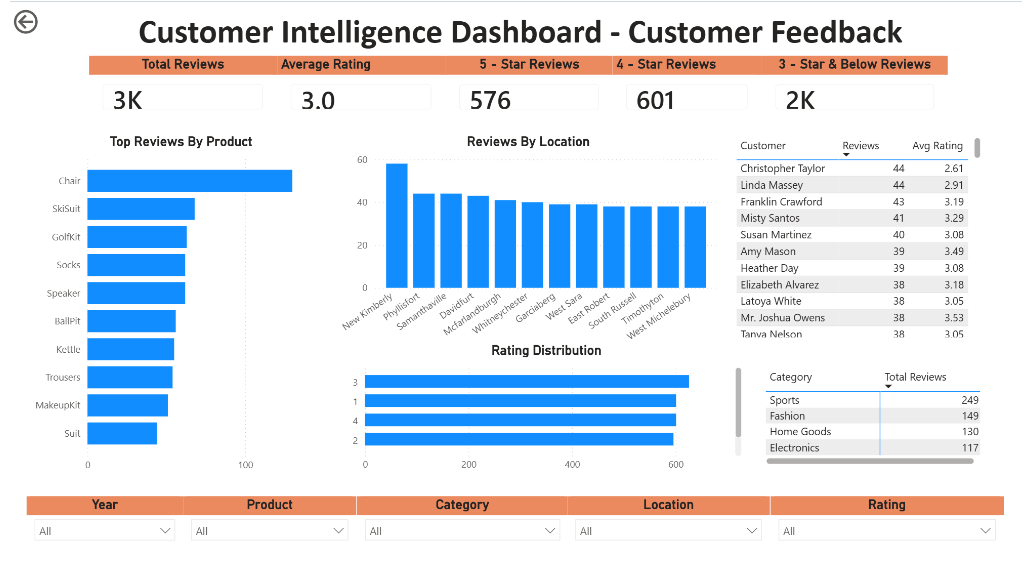

This screenshot's page, from the dashboard's own definition file:
{"tool":"powerbi","page":{"name":"👥 Customer Feedback","canvas":[1280,720],"ordinal":1},"visuals":[{"type":"textbox","box":[10.6,0,1269.4,96.4],"z":0},{"type":"cardVisual","title":"Total Reviews","fields":{"Data":["MeasuresTable.TotalReviews"]},"box":[100.4,63.4,237.8,85.9],"z":1000},{"type":"cardVisual","title":"3 - Star & Below Reviews","fields":{"Data":["MeasuresTable.3-Star&Below"]},"box":[951.1,63.4,235.1,85.9],"z":2000},{"type":"cardVisual","title":"5 - Star Reviews","fields":{"Data":["MeasuresTable.5-StarReviews"]},"box":[550.8,63.4,211.4,85.9],"z":3000},{"type":"cardVisual","title":"4 - Star Reviews","fields":{"Data":["MeasuresTable.4-StarReviews"]},"box":[762.2,63.4,188.9,85.9],"z":4000},{"type":"clusteredColumnChart","title":"Reviews By Location","fields":{"Category":["DimCustomer.Location"],"Y":["MeasuresTable.TotalReviews"]},"box":[412.1,161.2,487.4,277.4],"z":5000},{"type":"clusteredBarChart","title":"Top Reviews By Product","fields":{"Category":["DimProduct.ProductName"],"Y":["MeasuresTable.TotalReviews"]},"box":[21.1,161.2,391,437.2],"z":6000},{"type":"tableEx","title":"Revenue By Payment Method","fields":{"Values":["DimCustomer.CustomerName","MeasuresTable.CustomerReviewCount","MeasuresTable.AverageRating"]},"box":[912.8,161.2,319.7,262.9],"z":7000},{"type":"slicer","title":"Year","fields":{"Values":["DimDate.YearNumber"]},"box":[21.1,619.5,198.1,91.1],"z":8000},{"type":"slicer","title":"Product","fields":{"Values":["DimProduct.ProductName"]},"box":[219.3,619.5,219.3,91.1],"z":9000},{"type":"slicer","title":"Category","fields":{"Values":["DimProduct.Category"]},"box":[438.6,619.5,266.8,91.1],"z":10000},{"type":"slicer","title":"Location","fields":{"Values":["DimCustomer.Location"]},"box":[705.4,619.5,256.3,91.1],"z":11000},{"type":"slicer","title":"Rating","fields":{"Values":["FactReviews.Rating"]},"box":[961.7,619.5,294.6,91.1],"z":12000},{"type":"actionButton","box":[0,0,100,40],"z":13000},{"type":"cardVisual","title":"Average Rating","fields":{"Data":["MeasuresTable.AverageRating"]},"box":[338.2,63.4,212.7,85.9],"z":14000},{"type":"pivotTable","title":"Product","fields":{"Rows":["DimProduct.Category"],"Values":["MeasuresTable.TotalReviews"]},"box":[951.1,454.4,281.4,130.8],"z":15000},{"type":"barChart","title":"Rating Distribution","fields":{"Category":["FactReviews.Rating"],"Y":["MeasuresTable.TotalReviews"]},"box":[426.7,425.3,503.3,173],"z":16000}]}

Visuals, with their boxes in screenshot pixels (x1, y1, x2, y2), scaled from the page's 1280x720 canvas onto the 1032x578 screenshot:
textbox: bbox=(9, 0, 1031, 77)
"Total Reviews" cardVisual: bbox=(81, 51, 273, 120)
"3 - Star & Below Reviews" cardVisual: bbox=(767, 51, 956, 120)
"5 - Star Reviews" cardVisual: bbox=(444, 51, 615, 120)
"4 - Star Reviews" cardVisual: bbox=(615, 51, 767, 120)
"Reviews By Location" clusteredColumnChart: bbox=(332, 129, 725, 352)
"Top Reviews By Product" clusteredBarChart: bbox=(17, 129, 332, 480)
"Revenue By Payment Method" tableEx: bbox=(736, 129, 994, 340)
"Year" slicer: bbox=(17, 497, 177, 570)
"Product" slicer: bbox=(177, 497, 354, 570)
"Category" slicer: bbox=(354, 497, 569, 570)
"Location" slicer: bbox=(569, 497, 775, 570)
"Rating" slicer: bbox=(775, 497, 1013, 570)
actionButton: bbox=(0, 0, 81, 32)
"Average Rating" cardVisual: bbox=(273, 51, 444, 120)
"Product" pivotTable: bbox=(767, 365, 994, 470)
"Rating Distribution" barChart: bbox=(344, 341, 750, 480)
